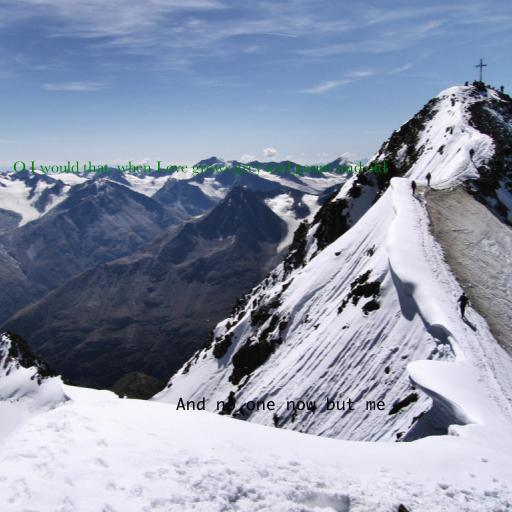Baskerville: (12, 161, 386, 177)
Monaco: (176, 397, 386, 411)
